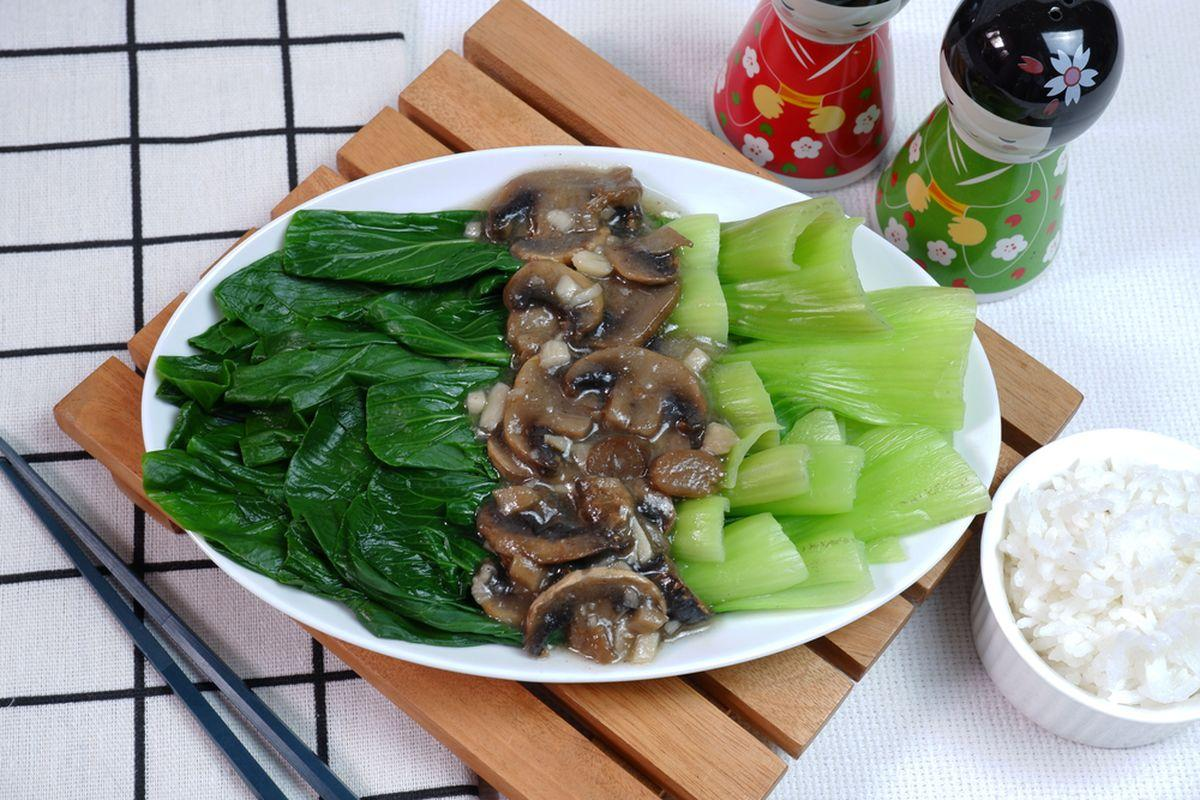buah_sayur_lainnya: (278, 227, 464, 556), (725, 223, 860, 592)
